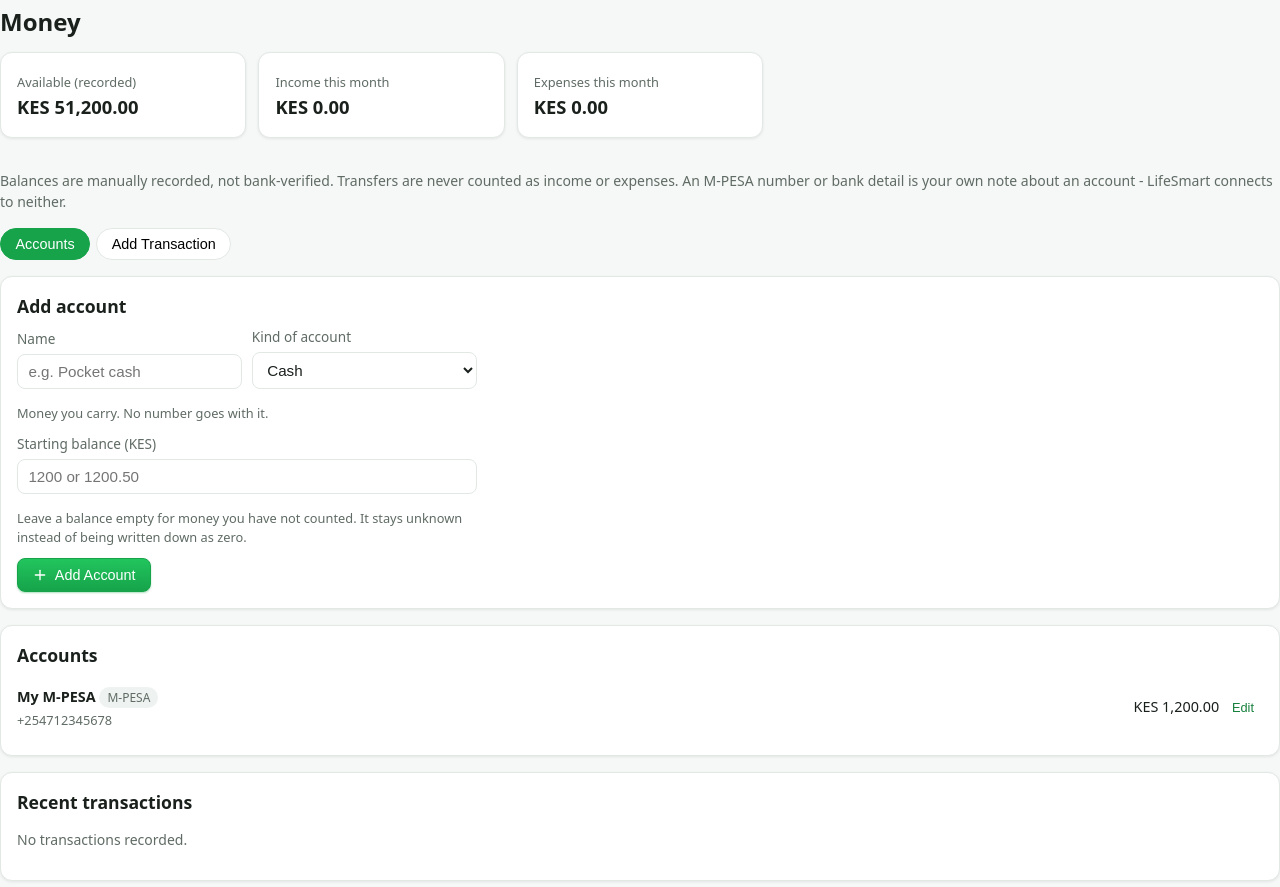
MoneyPage accounts › will not switch an account to a bank without saying which bank
Expected: the text "+254712345678" is shown, [17,711,112,729]
Click the button "Edit".
click(1243, 708)  # box [1223,696,1263,719]
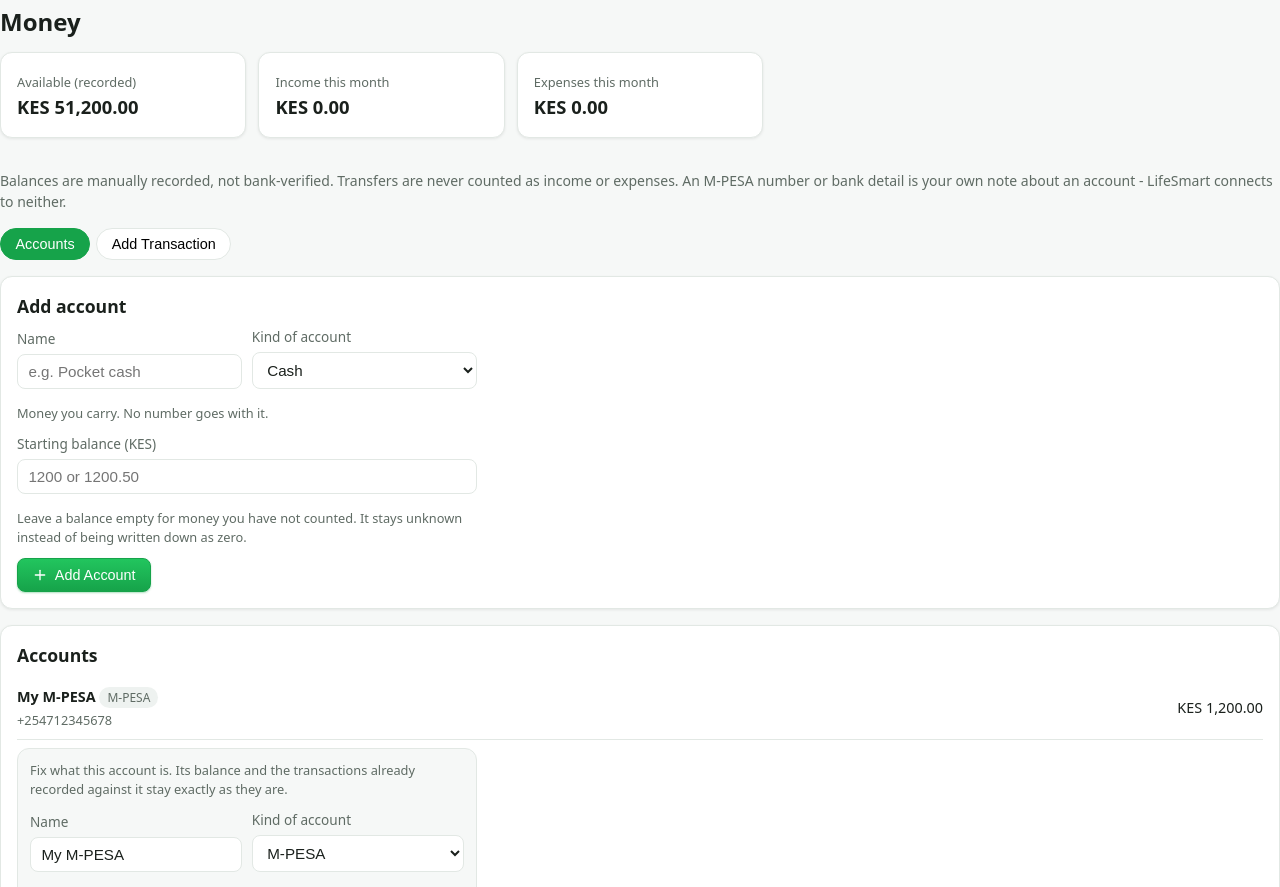
Select "Bank account" in the dropdown labelled "Kind of account" below "+254712345678" at (358,853), box [252,835,464,872]
(page scrolled)
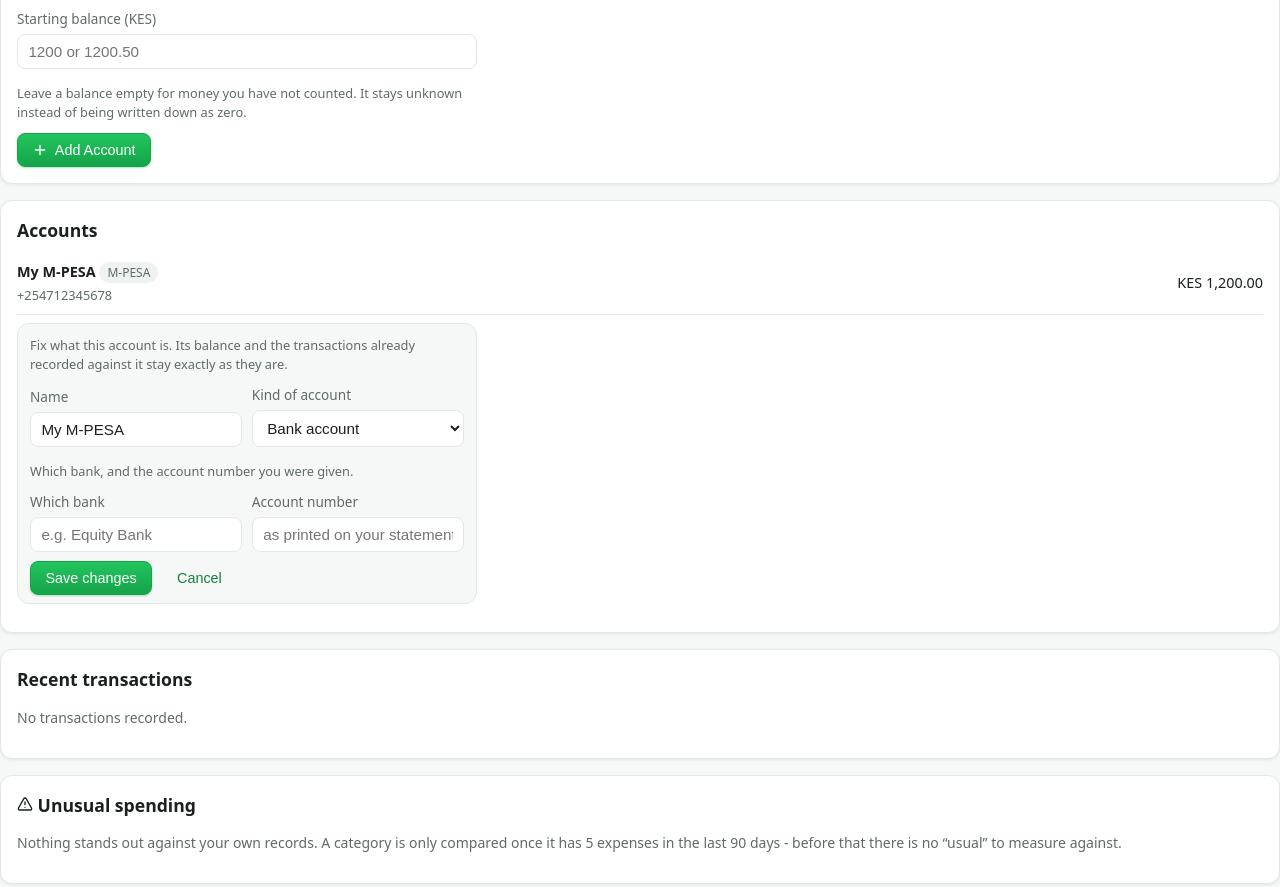
Click the button "Save changes".
click(91, 578)  # box [30,561,152,595]
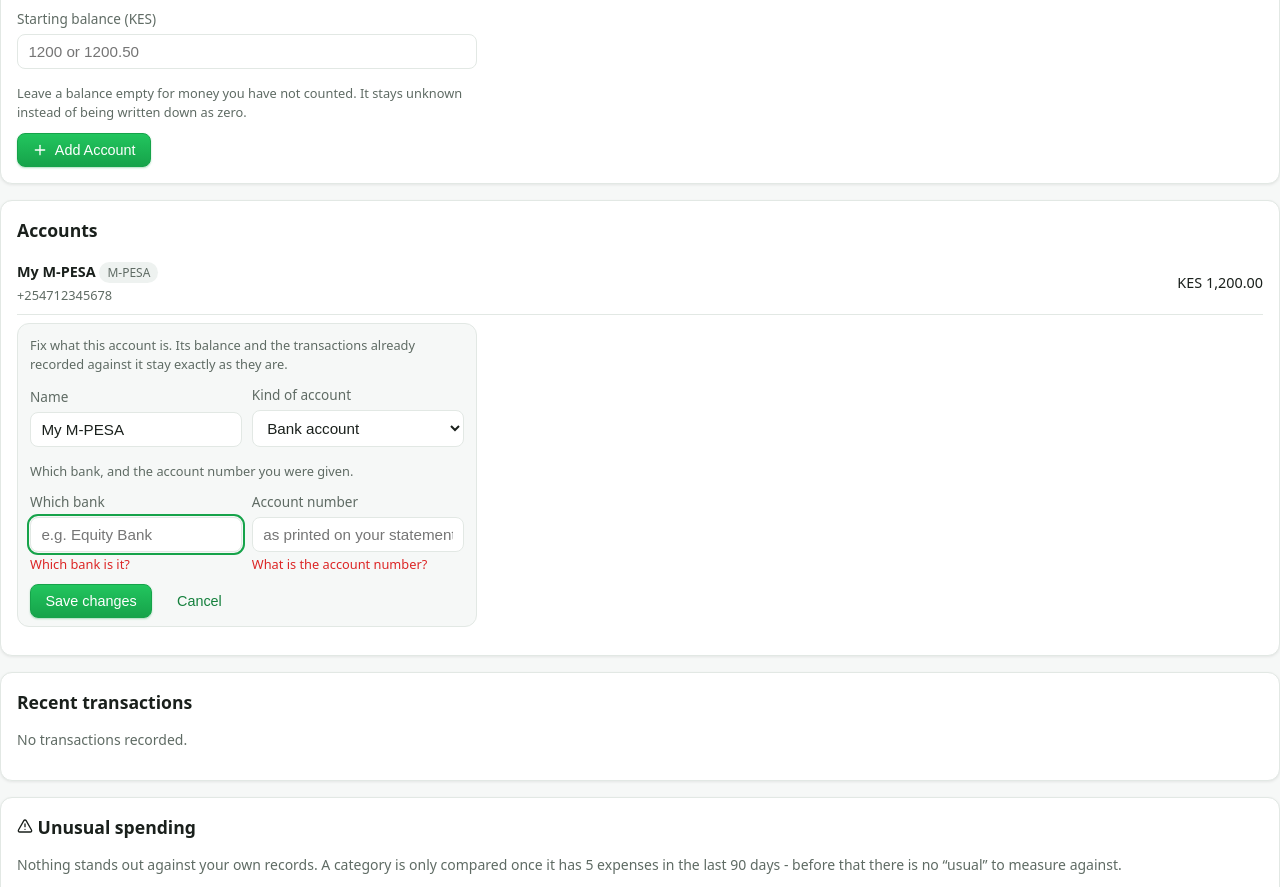
Expected: the text "My M-PESA" is shown, [17,262,96,281]
Result: the text "Which bank is it?" is shown at [30,555,130,573]
